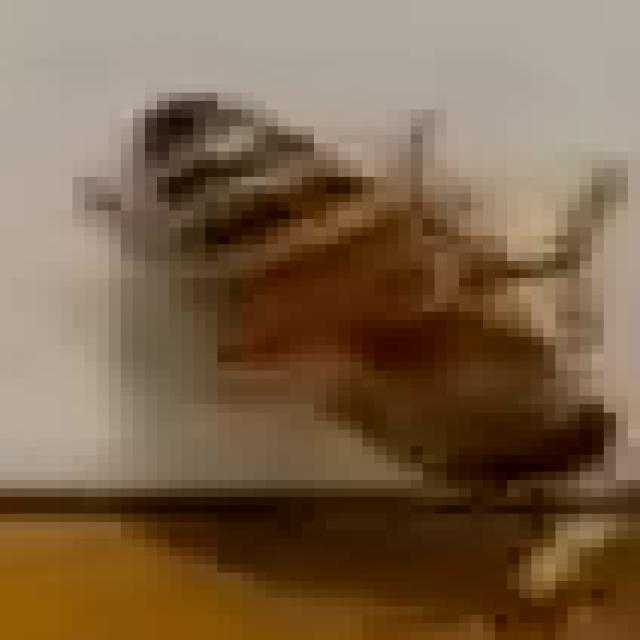honeybee: (118, 100, 613, 506)
